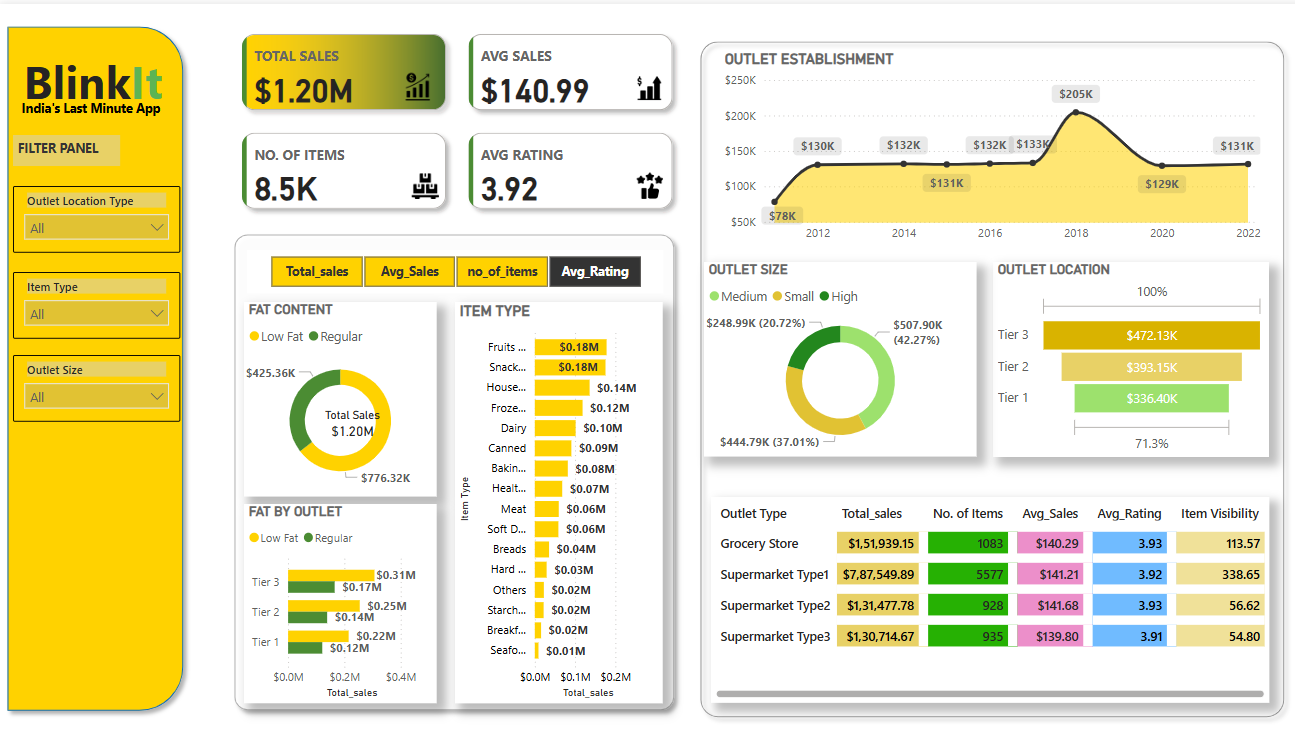

The page's visual inventory and layout, read from the dashboard file:
{"tool":"powerbi","page":{"name":"Page 1","canvas":[1400,800],"ordinal":0},"visuals":[{"type":"shape","box":[0,14.9,205.3,745.7],"z":0},{"type":"textbox","box":[14.9,96.8,166,28.7],"z":1000},{"type":"textbox","box":[7.4,48.9,185.1,90.4],"z":2000},{"type":"cardVisual","fields":{"Data":["BlinkIT Grocery Data.Total_sales","BlinkIT Grocery Data.Avg_Sales","BlinkIT Grocery Data.no_of_items","BlinkIT Grocery Data.Avg_Rating"]},"box":[241.5,14.9,493.6,221.3],"z":3000},{"type":"image","box":[673.4,172.3,38.3,42.6],"z":4000},{"type":"image","box":[425.5,66,40.4,43.6],"z":5000},{"type":"image","box":[434,172.3,39.4,42.6],"z":6000},{"type":"image","box":[673.4,69.1,37.2,40.4],"z":7000},{"type":"shape","box":[241.5,236.2,486.2,524.5],"z":8000},{"type":"donutChart","title":"FAT CONTENT","fields":{"Y":["Sum(BlinkIT Grocery Data.Sales)"],"Category":["BlinkIT Grocery Data.Item Fat Content"]},"box":[260.6,317,205.3,207.4],"z":9000},{"type":"slicer","fields":{"Values":["Matrics.Matrics"]},"box":[263.8,261.7,442.6,45.7],"z":10000},{"type":"card","title":"Total Sales","fields":{"Values":["BlinkIT Grocery Data.Total_sales"]},"box":[325.5,421.3,75.5,45.7],"z":11000},{"type":"clusteredBarChart","title":"FAT BY OUTLET","fields":{"Y":["BlinkIT Grocery Data.Total_sales"],"Category":["BlinkIT Grocery Data.Outlet Location Type"],"Series":["BlinkIT Grocery Data.Item Fat Content"]},"box":[260.6,531.9,205.3,211.7],"z":12000},{"type":"barChart","title":"ITEM TYPE","fields":{"Y":["BlinkIT Grocery Data.Total_sales"],"Category":["BlinkIT Grocery Data.Item Type"]},"box":[485.1,317,221.3,426.6],"z":13000},{"type":"shape","box":[737.2,24.5,639.4,743.6],"z":14000},{"type":"lineChart","title":"OUTLET ESTABLISHMENT","fields":{"Category":["BlinkIT Grocery Data.Outlet Establishment Year"],"Y":["BlinkIT Grocery Data.Total_sales"]},"box":[767,48.9,579.8,212.8],"z":15000},{"type":"donutChart","title":"OUTLET SIZE","fields":{"Y":["BlinkIT Grocery Data.Total_sales"],"Category":["BlinkIT Grocery Data.Outlet Size"]},"box":[750,274.5,290.4,207.4],"z":16000},{"type":"funnel","title":"OUTLET LOCATION","fields":{"Category":["BlinkIT Grocery Data.Outlet Location Type"],"Y":["BlinkIT Grocery Data.Total_sales"]},"box":[1057.4,274.5,293.6,207.4],"z":17000},{"type":"pivotTable","fields":{"Rows":["BlinkIT Grocery Data.Outlet Type"],"Values":["BlinkIT Grocery Data.Total_sales","BlinkIT Grocery Data.no_of_items","BlinkIT Grocery Data.Avg_Sales","BlinkIT Grocery Data.Avg_Rating","Sum(BlinkIT Grocery Data.Item Visibility)"]},"box":[757.4,524.5,593.6,219.1],"z":18000},{"type":"slicer","fields":{"Values":["BlinkIT Grocery Data.Outlet Location Type"]},"box":[14.9,193.6,177.7,71.3],"z":19000},{"type":"slicer","fields":{"Values":["BlinkIT Grocery Data.Item Type"]},"box":[14.9,285.1,177.7,71.3],"z":20000},{"type":"slicer","fields":{"Values":["BlinkIT Grocery Data.Outlet Size"]},"box":[14.9,373.4,177.7,71.3],"z":21000},{"type":"textbox","box":[14.9,139.4,113.8,33],"z":22000}]}

Visuals, with their boxes in screenshot pixels (x1, y1, x2, y2), scaled from the page's 1400x800 canvas onto the 1295x737 screenshot:
shape: 0:14:190:701
textbox: 14:89:167:116
textbox: 7:45:178:128
cardVisual - BlinkIT Grocery Data.Total_sales x BlinkIT Grocery Data.Avg_Sales: 223:14:680:218
image: 623:159:658:198
image: 394:61:431:101
image: 401:159:438:198
image: 623:64:657:101
shape: 223:218:673:701
"FAT CONTENT" donutChart: 241:292:431:483
slicer - Matrics.Matrics: 244:241:653:283
"Total Sales" card: 301:388:371:430
"FAT BY OUTLET" clusteredBarChart: 241:490:431:685
"ITEM TYPE" barChart: 449:292:653:685
shape: 682:23:1273:708
"OUTLET ESTABLISHMENT" lineChart: 709:45:1246:241
"OUTLET SIZE" donutChart: 694:253:962:444
"OUTLET LOCATION" funnel: 978:253:1250:444
pivotTable - BlinkIT Grocery Data.Outlet Type x BlinkIT Grocery Data.Total_sales: 701:483:1250:685
slicer - BlinkIT Grocery Data.Outlet Location Type: 14:178:178:244
slicer - BlinkIT Grocery Data.Item Type: 14:263:178:328
slicer - BlinkIT Grocery Data.Outlet Size: 14:344:178:410
textbox: 14:128:119:159
